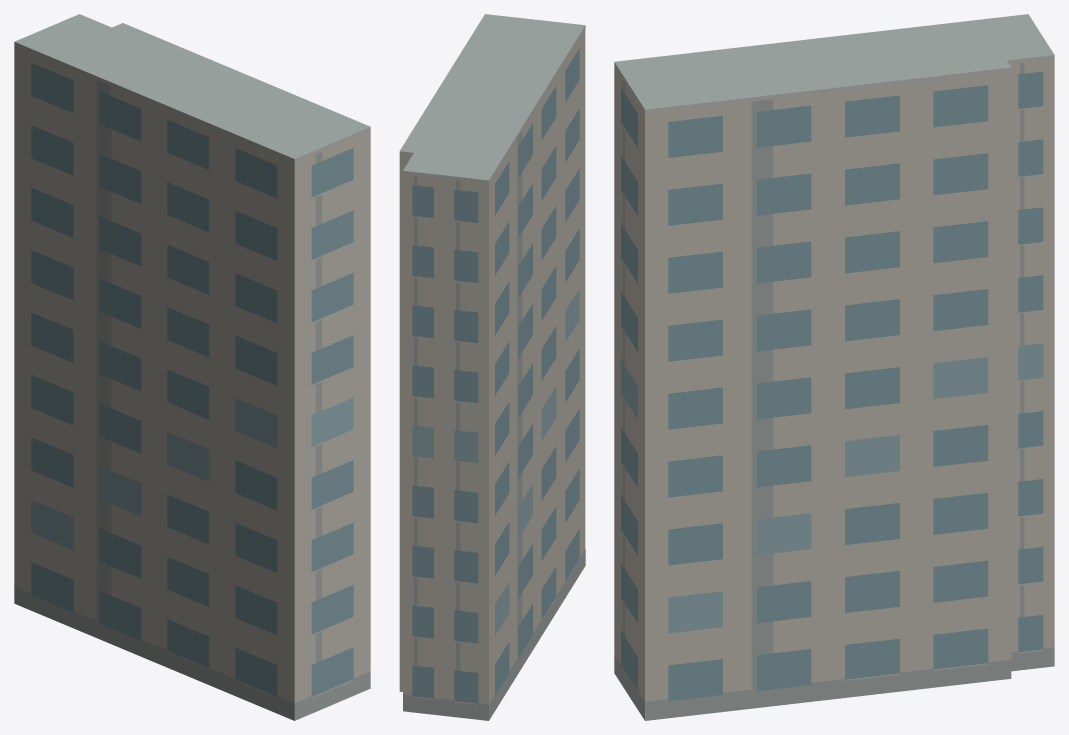
The model's file is residential-e774f2d4-4496-4e34-820c-b58f2ffdffaa.glb.
3 views of the same model, side by side, from view 1: azimuth 30°, elevation 25°; view 2: azimuth 150°, elevation 25°; view 3: azimuth 270°, elevation 25° (orthographic). The views are drawn at different scales.
Visible parts, largest first — view 1: residential-e774f2d4-4496-4e34-820c-b58f2ffdffaa.tmp; view 2: residential-e774f2d4-4496-4e34-820c-b58f2ffdffaa.tmp; view 3: residential-e774f2d4-4496-4e34-820c-b58f2ffdffaa.tmp.
Part boxes in pixels (x1,y1,x2,y2): residential-e774f2d4-4496-4e34-820c-b58f2ffdffaa.tmp: (14,14,370,720); residential-e774f2d4-4496-4e34-820c-b58f2ffdffaa.tmp: (399,14,585,720); residential-e774f2d4-4496-4e34-820c-b58f2ffdffaa.tmp: (614,14,1054,720).
Bounding box in the file's own units: 12.1 × 36 × 23.52.
